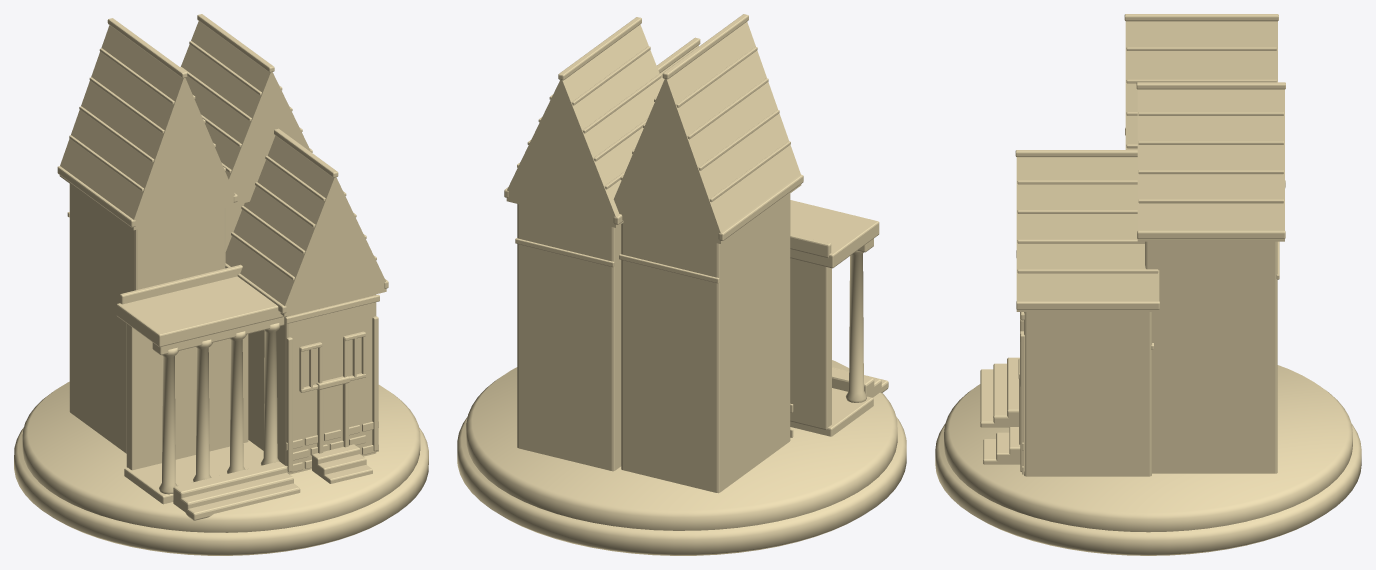
Rendered from city-beige.fbx.
The picture shows the model from 3 angles, left to right: view 1: azimuth 30°, elevation 25°; view 2: azimuth 150°, elevation 25°; view 3: azimuth 270°, elevation 25°; orthographic projection. The views are drawn at different scales.
Parts seen in each view (by area): view 1: City_Moulded_Sculpt; view 2: City_Moulded_Sculpt; view 3: City_Moulded_Sculpt.
Part boxes in pixels (x1=…): City_Moulded_Sculpt: x1=14, y1=14, x2=428, y2=555; City_Moulded_Sculpt: x1=457, y1=14, x2=906, y2=555; City_Moulded_Sculpt: x1=935, y1=14, x2=1361, y2=555.
Size of the model in its own units: 0.018 by 0.02 by 0.018.
